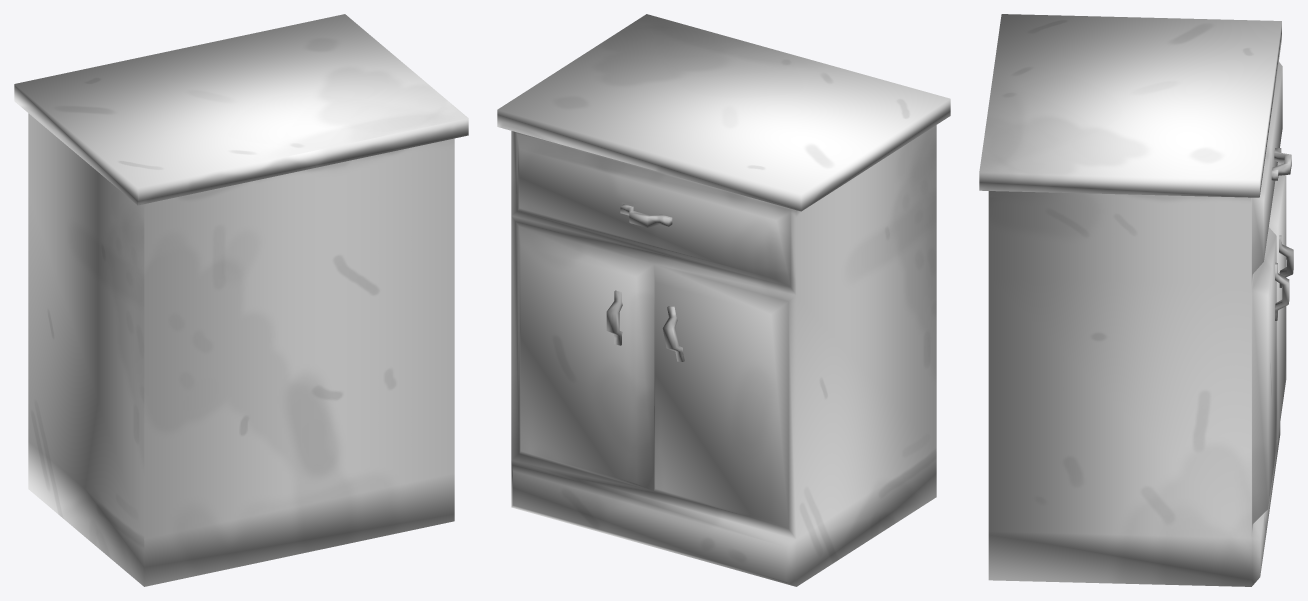
File: obj_SmallCabinet.fbx
3 views of the same model, side by side, from view 1: azimuth 30°, elevation 25°; view 2: azimuth 150°, elevation 25°; view 3: azimuth 270°, elevation 25° (orthographic). The views are drawn at different scales.
Visible parts, largest first — view 1: obj_SmallCabinet; view 2: obj_SmallCabinet; view 3: obj_SmallCabinet.
Boxes of the visible parts, x1,y1,x2,y2 form: obj_SmallCabinet: (14, 14, 468, 586); obj_SmallCabinet: (497, 14, 950, 586); obj_SmallCabinet: (979, 14, 1293, 586).
Bounding box in the file's own units: 0.6149 × 0.7113 × 0.4921.
